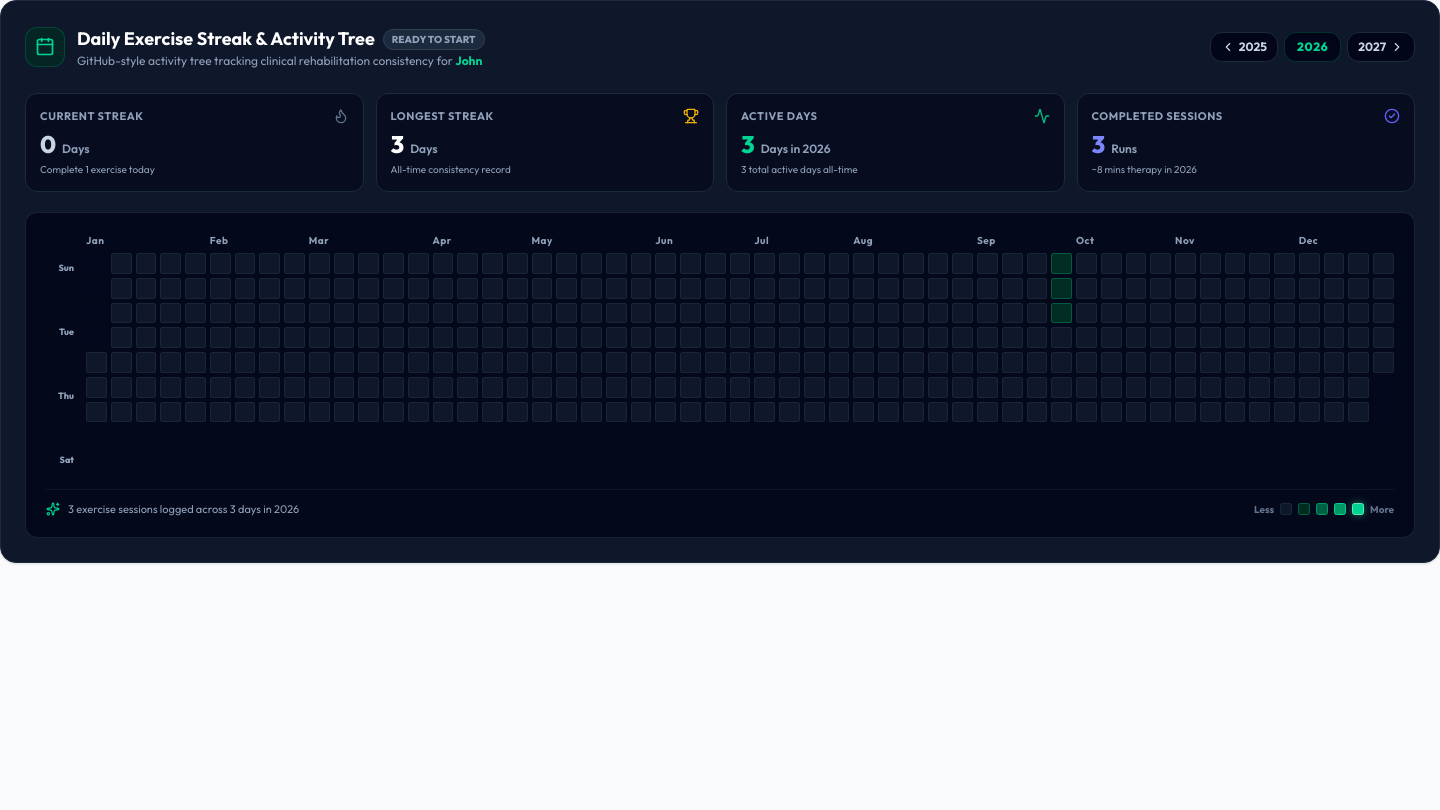
Test: PatientExerciseStreakCalendar Component › allows browsing back and forth between years
Expected: the text "2026" is shown, [1297,39,1328,55]
Click previous year
Step 1. Click the button named "Previous Year" → [1244, 47], box [1210,32,1278,62]
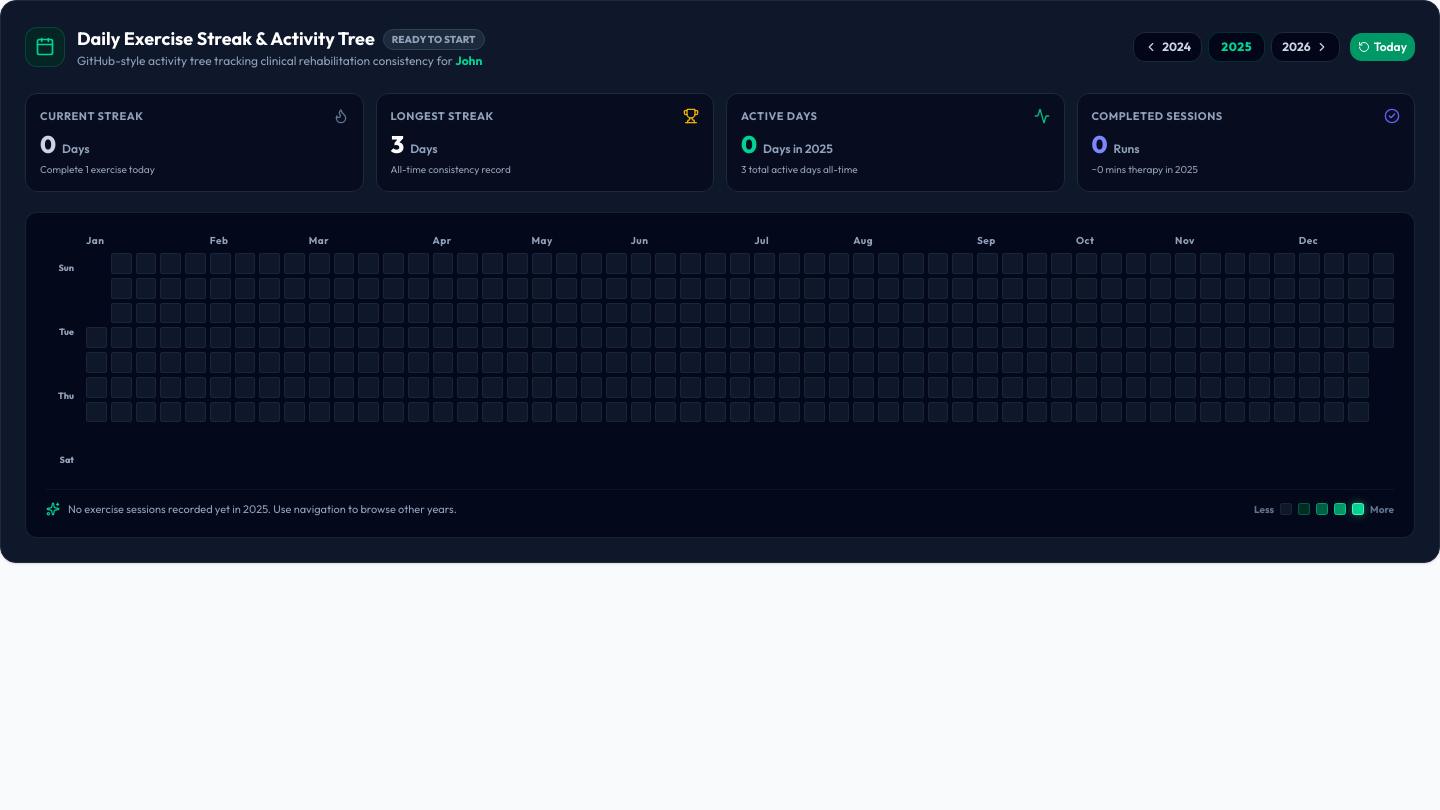
Expected: the text "2025" is shown, [1221,39,1252,55]
Click next year twice
Step 2. Click the button named "Next Year" → [1305, 47], box [1271,32,1340,62]
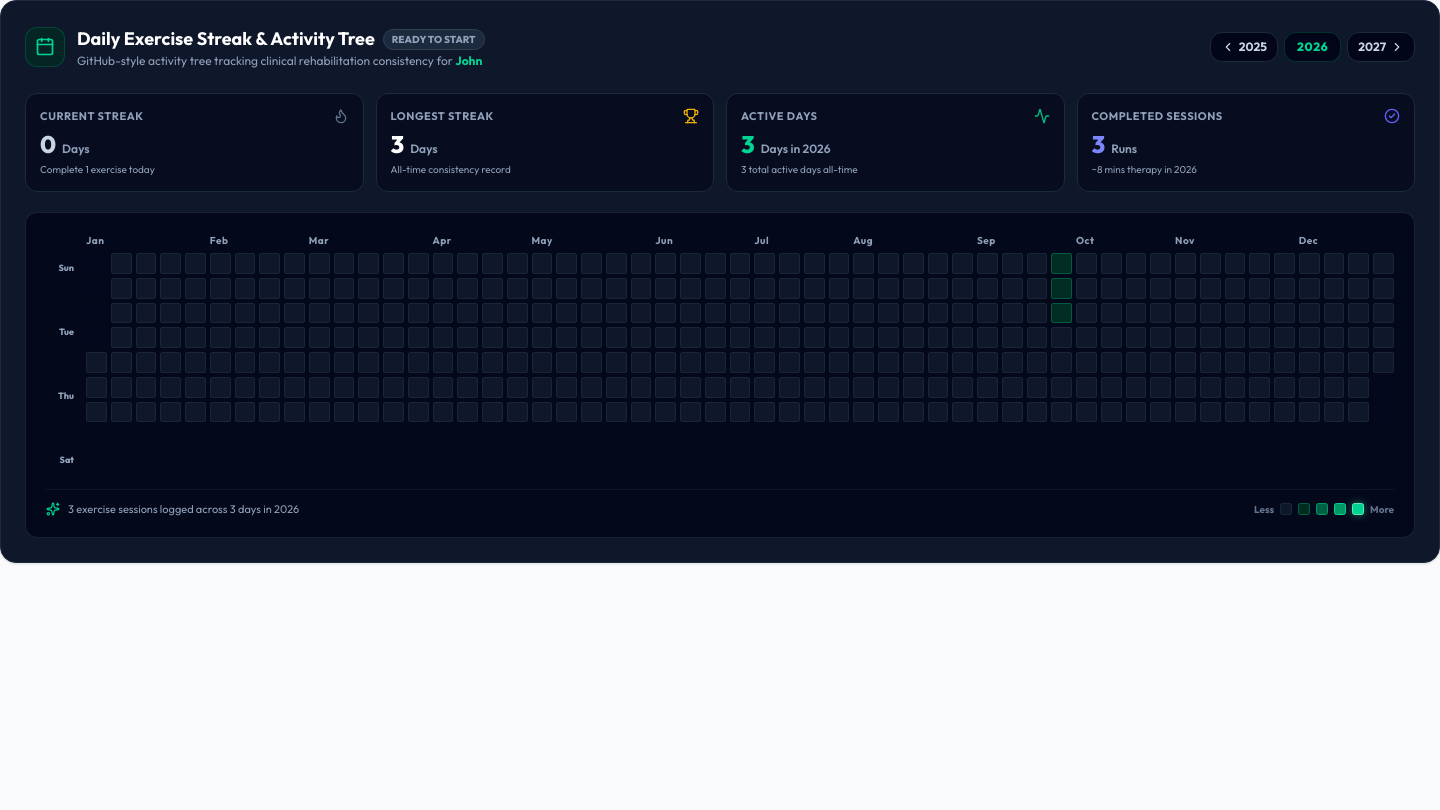
Expected: the text "2026" is shown, [1297,39,1328,55]
